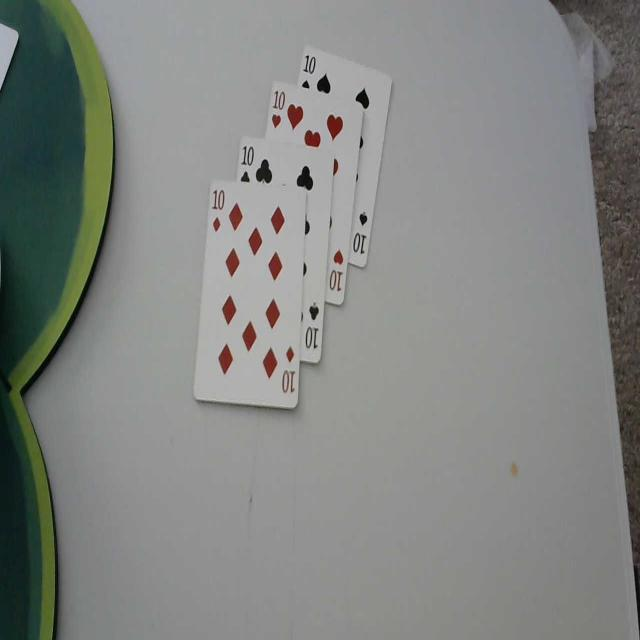10C: (304, 298, 320, 351)
10D: (280, 346, 296, 395), (211, 188, 226, 235)
10H: (326, 248, 346, 296), (270, 87, 286, 133)
10S: (352, 209, 367, 256)
